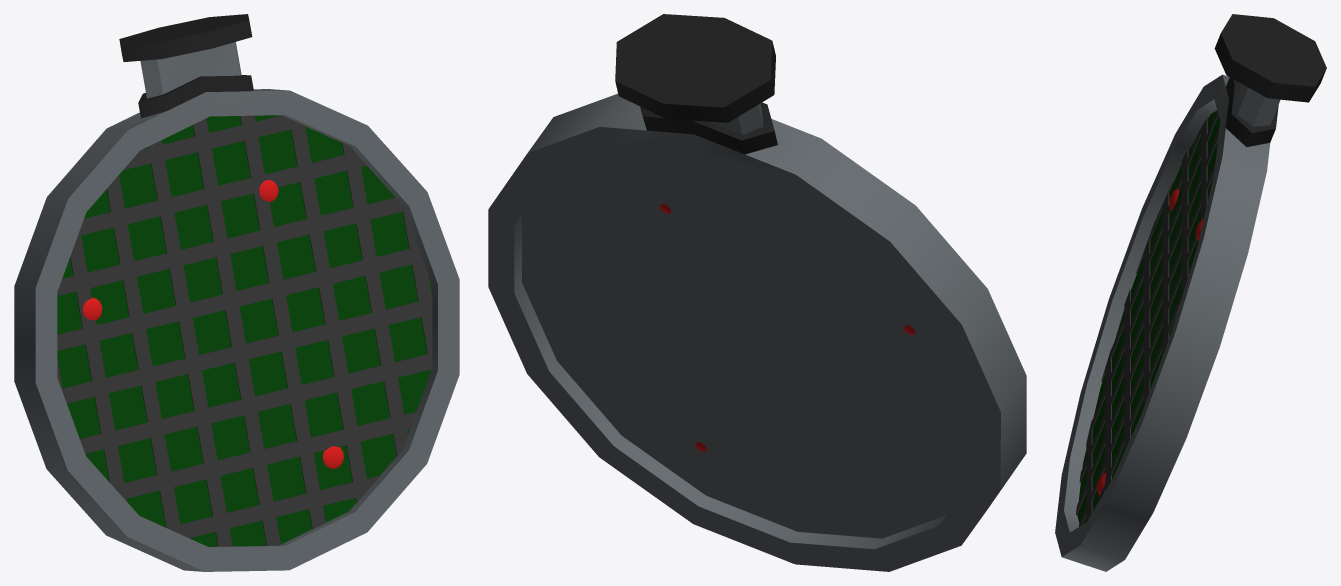
The model's file is Radar.FBX.
3 views of the same model, side by side, from view 1: azimuth 30°, elevation 25°; view 2: azimuth 150°, elevation 25°; view 3: azimuth 270°, elevation 25° (orthographic). The views are drawn at different scales.
Visible parts, largest first — view 1: Radar; view 2: Radar; view 3: Radar.
Part boxes in pixels (x1,y1,x2,y2): Radar: (14,14,459,571); Radar: (488,14,1026,571); Radar: (1055,14,1326,571).
Bounding box in the file's own units: 22.13 × 24.67 × 11.82.
